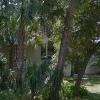Tree: (45, 0, 100, 76)
